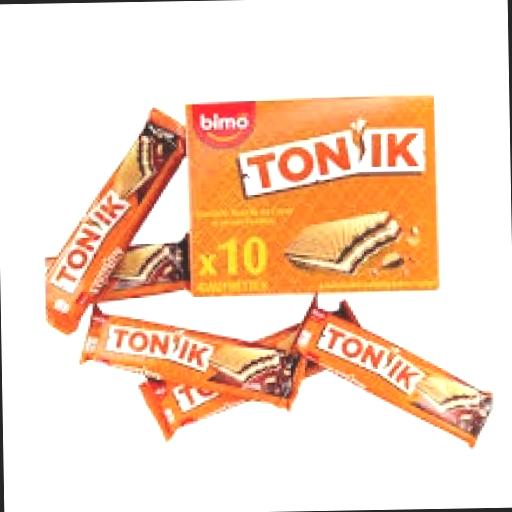tonik: (263, 272, 512, 462), (8, 129, 203, 320)
